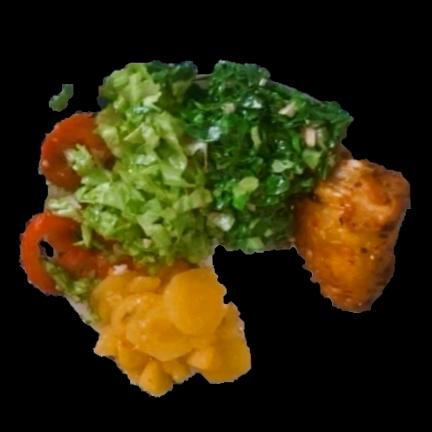cassava: (88, 271, 250, 395)
chicken: (297, 155, 412, 311)
salad: (69, 59, 352, 271)
tomato: (19, 210, 113, 298), (41, 110, 117, 190)
